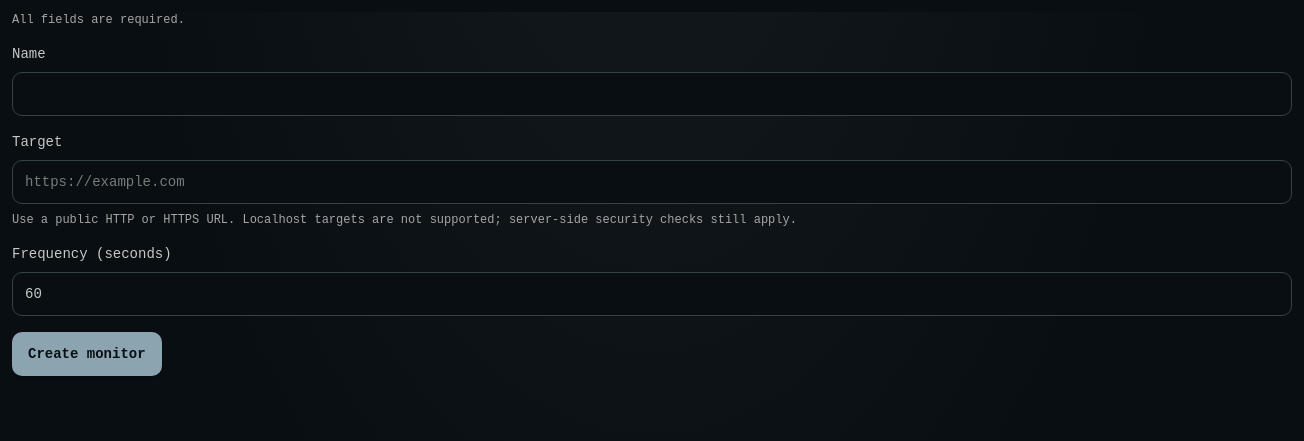
it: CreateMonitorForm › rejects unsupported target http://localhost:3000/health before posting
Type "x" into the field labelled "Name" at (652, 94), box [12,72,1292,116]
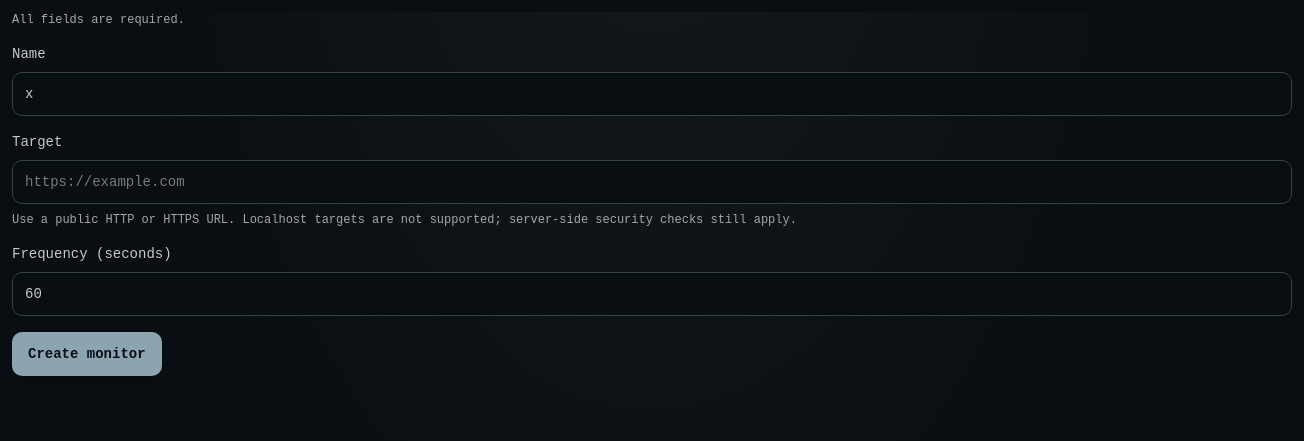
Type "http://localhost:3000/health" into the field labelled "Target" at (652, 182), box [12,160,1292,204]
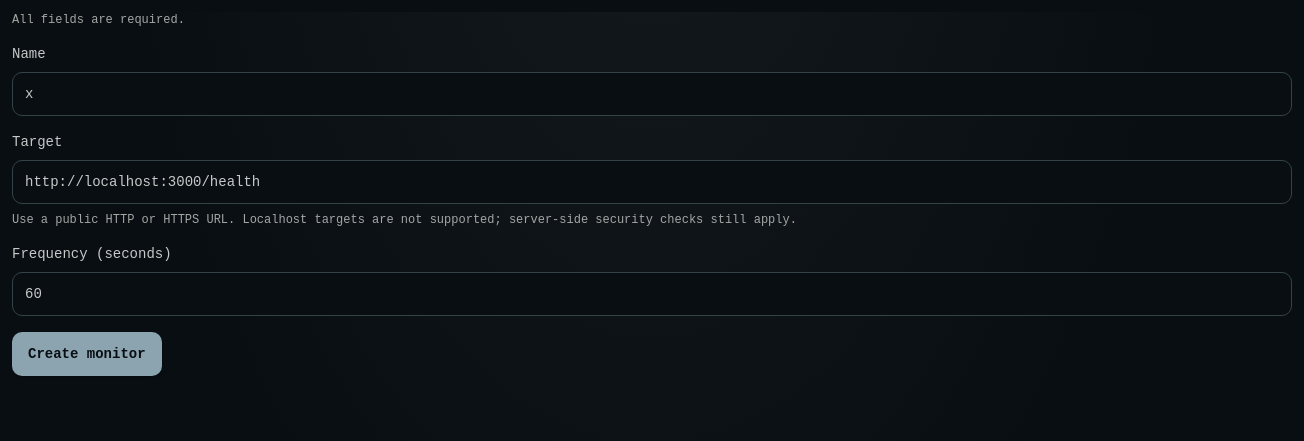
Click the button "Create monitor" at (87, 354), box [12,332,162,376]
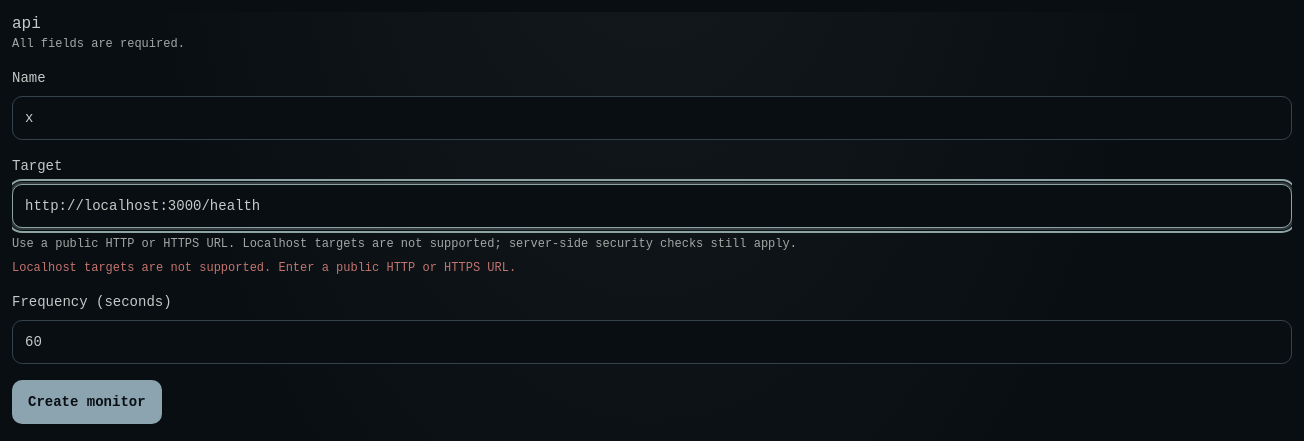
Expected: the text with id "monitor-target-error" reads "Localhost targets are not supported. Enter a public HTTP or HTTPS URL.", [12,261,516,275]
